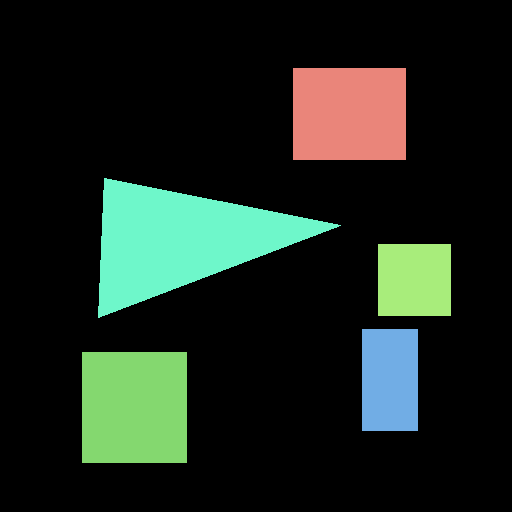rectangle: (293, 68, 405, 159), (362, 329, 417, 430)
square: (82, 352, 186, 462), (378, 244, 450, 315)
triangle: (98, 178, 340, 317)
